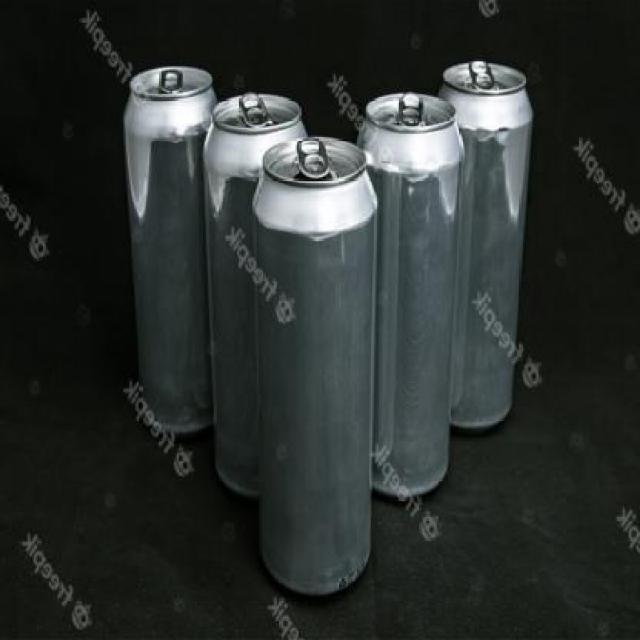can: (250, 125, 384, 618), (101, 49, 226, 500), (349, 35, 462, 517), (197, 77, 305, 531), (438, 57, 532, 445)
